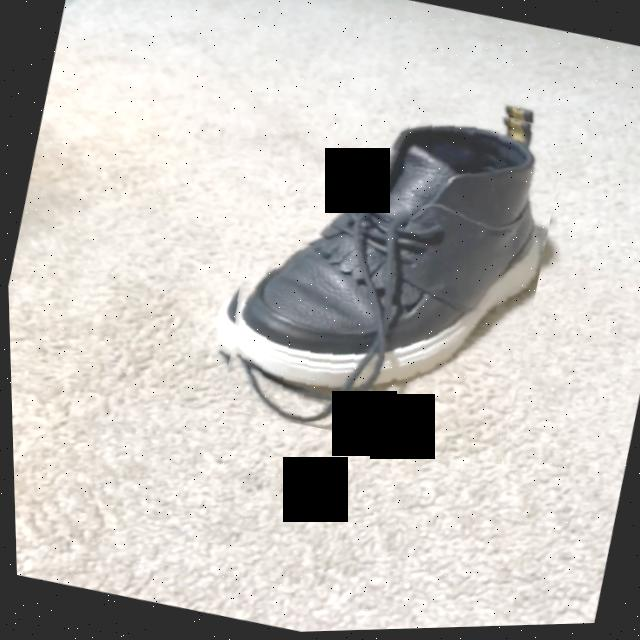shoe: (227, 119, 543, 431)
